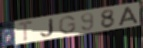8: (100, 9, 117, 29)
9: (80, 12, 95, 32)
A: (117, 6, 140, 27)
G: (58, 15, 78, 35)
J: (39, 18, 55, 38)
T: (18, 20, 35, 43)
